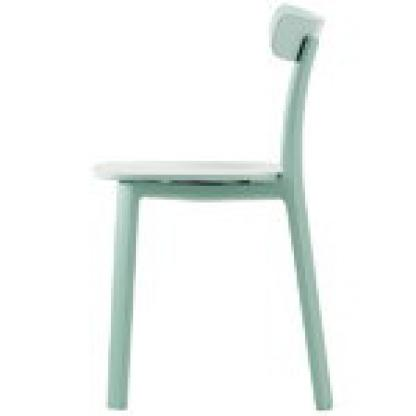chair: (88, 2, 349, 413)
